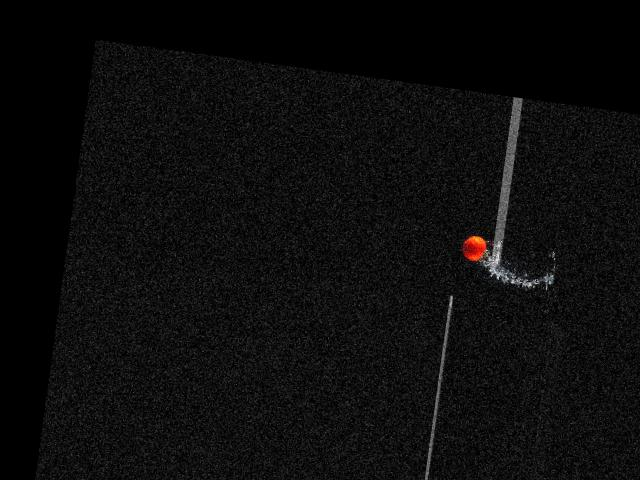tomato: (461, 234, 487, 262)
